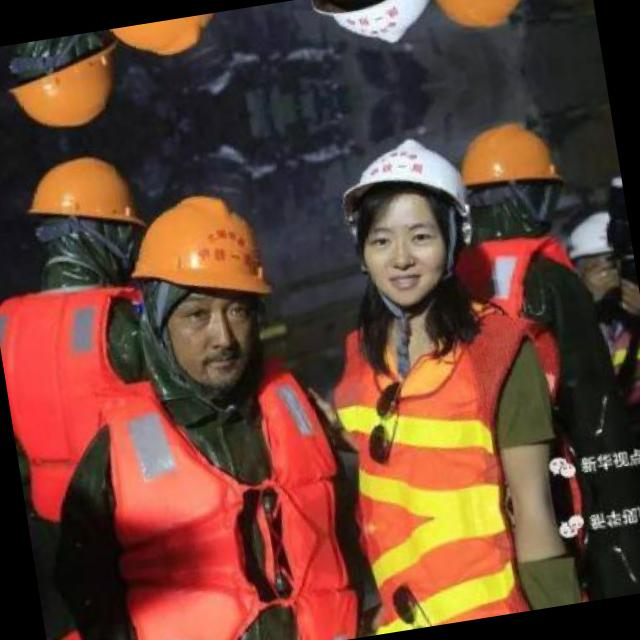helmet: (107, 178, 290, 404), (319, 119, 489, 322), (9, 141, 150, 297), (454, 107, 572, 250), (0, 29, 127, 147), (80, 9, 238, 76), (295, 0, 448, 68), (431, 0, 540, 45)
